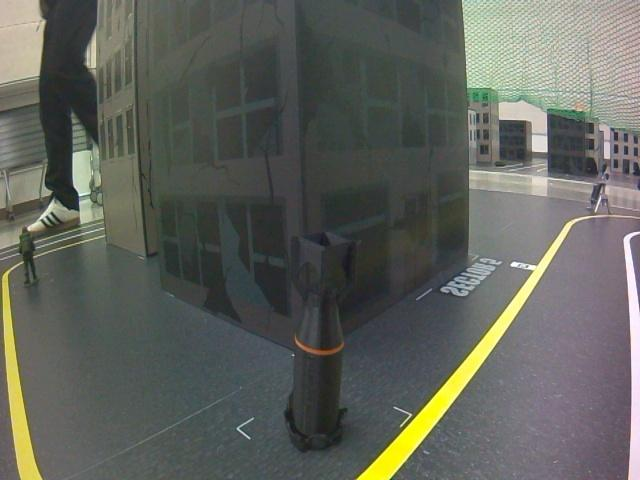Enemy: (17, 225, 41, 291)
Missile: (279, 225, 357, 458)
Mortar: (586, 163, 612, 219)
